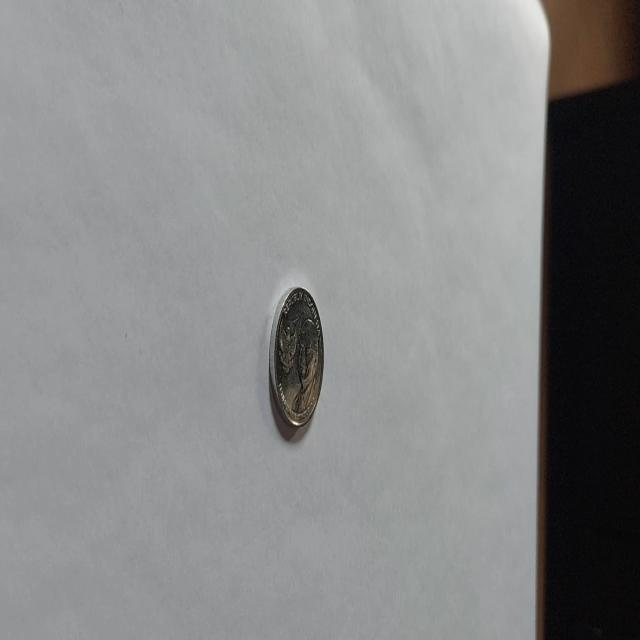lima ratus rupiah: (267, 284, 325, 436)
